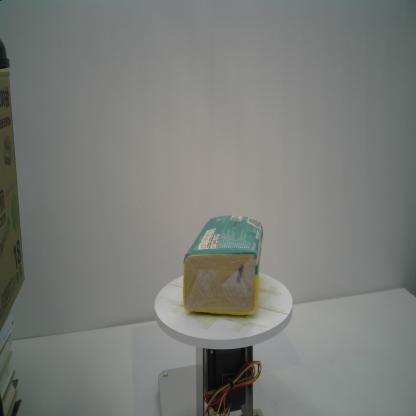Tissue: (183, 216, 263, 316)
